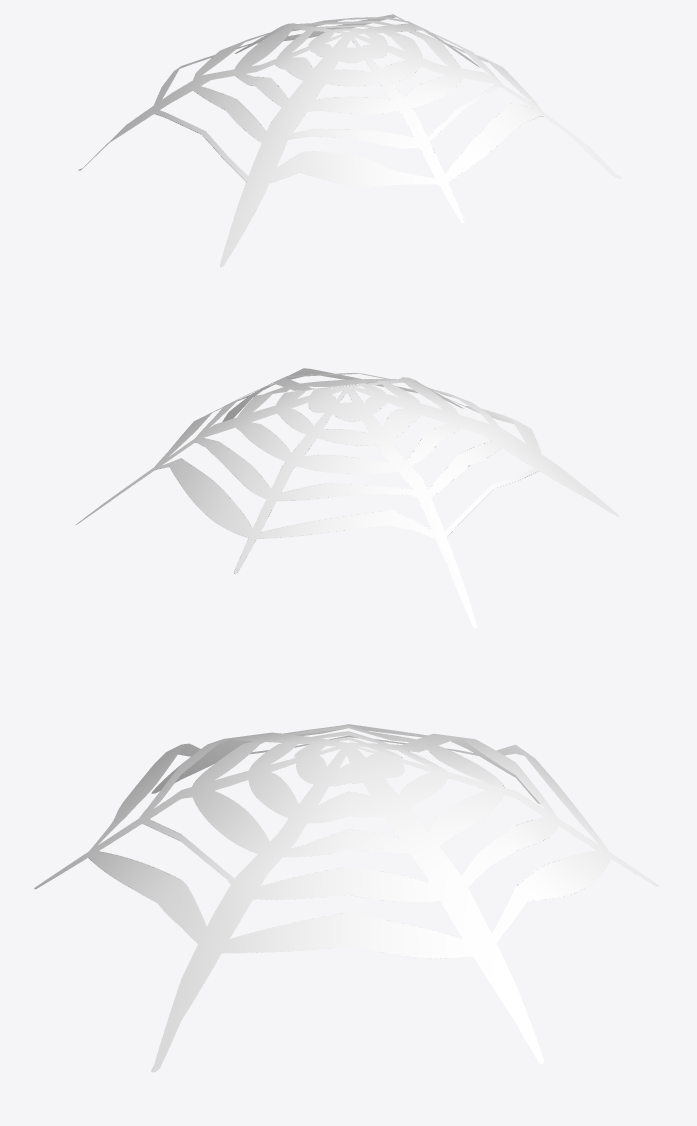
The model's file is Cobweb_B.fbx.
3 views of the same model, one above another, from view 1: azimuth 30°, elevation 25°; view 2: azimuth 150°, elevation 25°; view 3: azimuth 270°, elevation 25° (orthographic). The views are drawn at different scales.
Visible parts, largest first — view 1: Cobweb_B; view 2: Cobweb_B; view 3: Cobweb_B.
Part boxes in pixels (bbox=[...]): Cobweb_B: bbox=[78, 14, 621, 267]; Cobweb_B: bbox=[76, 368, 618, 628]; Cobweb_B: bbox=[34, 724, 658, 1072].
Bounding box in the file's own units: 758 × 283 × 758.
1 material, 1 textured.
